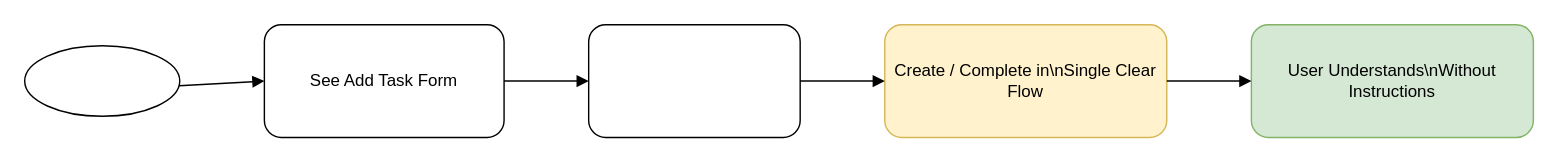
Image size: 1558x162. Some labels were removed from this diagram. Each missing label, with the centre of its shape:
Open App: the point at 101,80
See Task List: the point at 693,80
